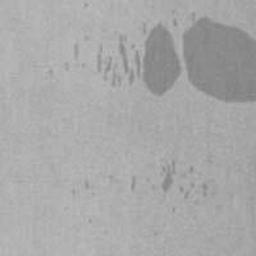Oil spot: (182, 12, 256, 105), (95, 22, 184, 99), (157, 159, 178, 195), (178, 184, 189, 200), (201, 183, 210, 200), (72, 45, 79, 61), (129, 177, 137, 191), (170, 19, 178, 28), (83, 178, 88, 189), (187, 165, 193, 174)
